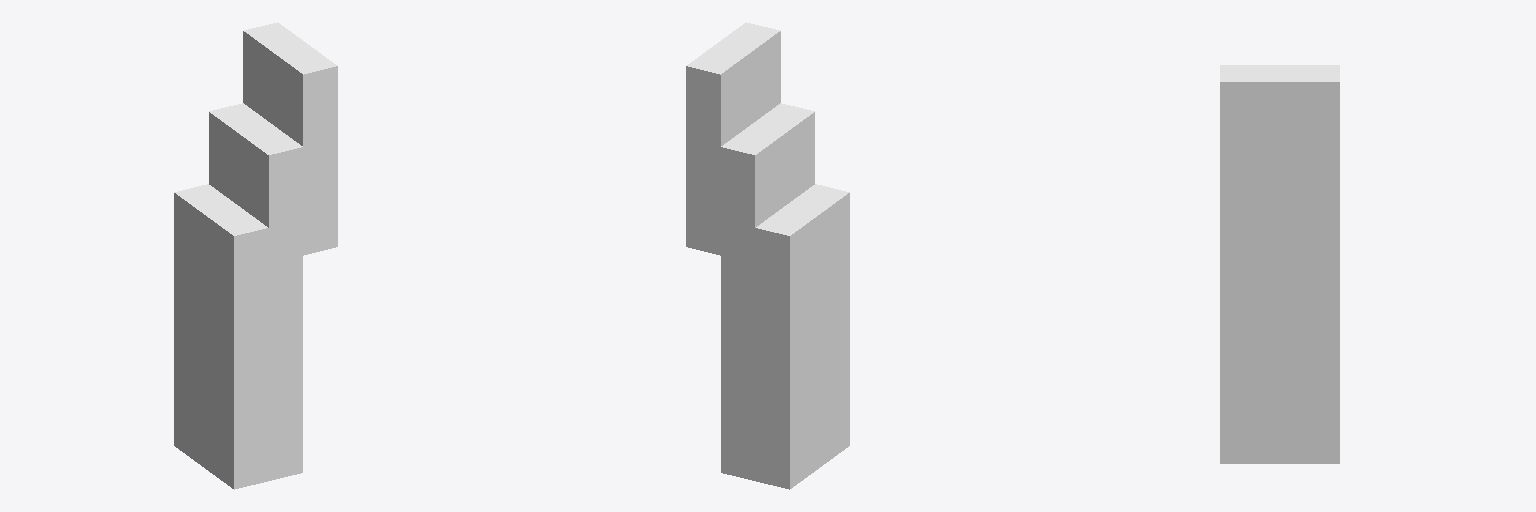
Rendered from Rig.obj.
The picture shows the model from 3 angles: view 1: azimuth 30°, elevation 25°; view 2: azimuth 150°, elevation 25°; view 3: azimuth 270°, elevation 25°; orthographic projection.
Parts seen in each view (by area): view 1: object 1; view 2: object 1; view 3: object 1.
Part boxes in pixels (x1,y1,x2,y2): object 1: (174, 22, 337, 489); object 1: (686, 22, 849, 489); object 1: (1220, 65, 1339, 463).
Size of the model in its own units: 0.3 by 1.1 by 0.3.